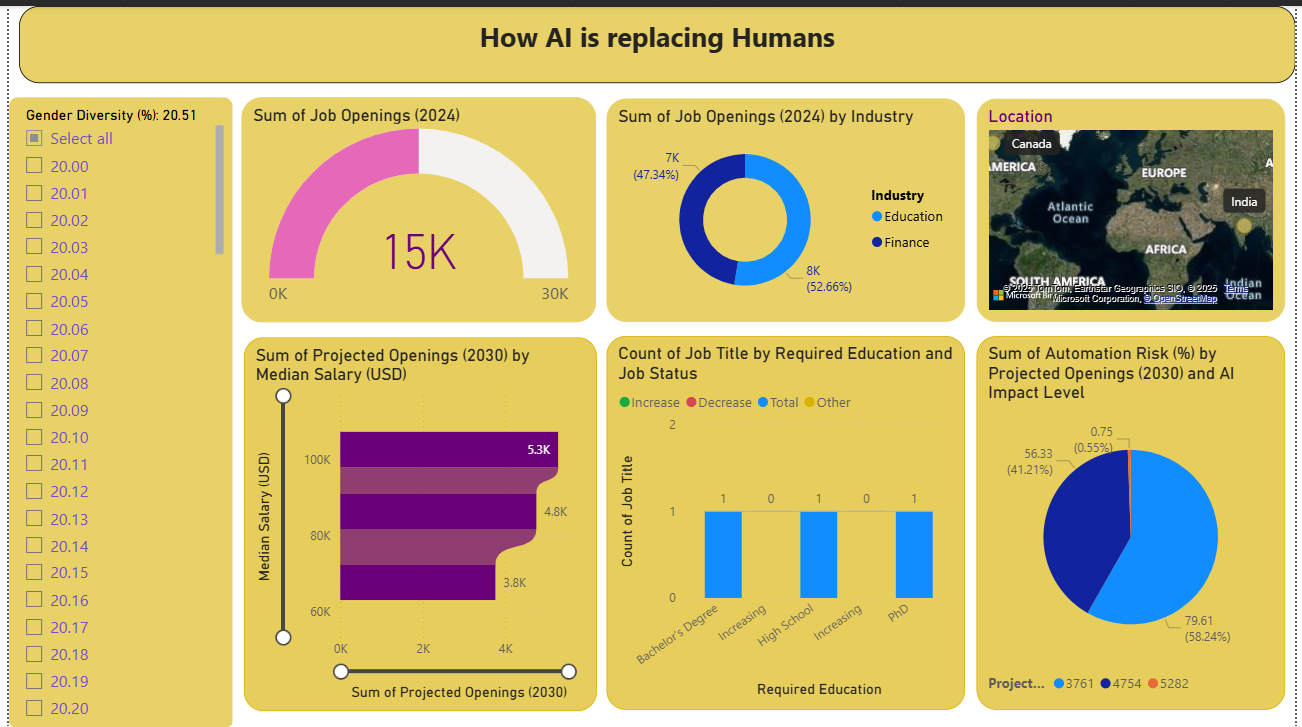

Layout of this report page (visuals, bound fields, positions):
{"tool":"powerbi","page":{"name":"Page 1","canvas":[1280,720],"ordinal":0},"visuals":[{"type":"textbox","box":[9.6,0,1270.7,76.8],"z":0},{"type":"donutChart","fields":{"Category":["ai_job_trends_dataset.Industry"],"Y":["Sum(ai_job_trends_dataset.Job Openings (2024))"]},"box":[594.2,91.9,356.8,222.3],"z":1000},{"type":"slicer","fields":{"Values":["ai_job_trends_dataset.Gender Diversity (%)"]},"box":[0,90.6,222.3,629.8],"z":2000},{"type":"gauge","fields":{"Y":["Sum(ai_job_trends_dataset.Job Openings (2024))"]},"box":[231.9,90.6,352.7,223.7],"z":3000},{"type":"map","fields":{"Category":["ai_job_trends_dataset.Location"]},"box":[963.3,91.9,307.4,222.3],"z":4000},{"type":"barChart","fields":{"Category":["ai_job_trends_dataset.Median Salary (USD)"],"Y":["Sum(ai_job_trends_dataset.Projected Openings (2030))"]},"box":[233.3,329.3,351.3,371.9],"z":5000},{"type":"waterfallChart","fields":{"Category":["ai_job_trends_dataset.Required Education"],"Y":["CountNonNull(ai_job_trends_dataset.Job Title)"],"Breakdown":["ai_job_trends_dataset.Job Status"]},"box":[594,329,357,372],"z":6000},{"type":"pieChart","fields":{"Y":["Sum(ai_job_trends_dataset.Automation Risk (%))"],"Series":["ai_job_trends_dataset.AI Impact Level"],"Category":["ai_job_trends_dataset.Projected Openings (2030)"]},"box":[963,329,307,372],"z":7000}]}

Visuals, with their boxes in screenshot pixels (x1, y1, x2, y2), scaled from the page's 1280x720 canvas onto the 1302x727 screenshot:
textbox: [10,0,1301,78]
donutChart - ai_job_trends_dataset.Industry x Sum(ai_job_trends_dataset.Job Openings (2024)): [604,93,967,317]
slicer - ai_job_trends_dataset.Gender Diversity (%): [0,91,226,726]
gauge - Sum(ai_job_trends_dataset.Job Openings (2024)): [236,91,595,317]
map - ai_job_trends_dataset.Location: [980,93,1293,317]
barChart - ai_job_trends_dataset.Median Salary (USD) x Sum(ai_job_trends_dataset.Projected Openings (2030)): [237,333,595,708]
waterfallChart - ai_job_trends_dataset.Required Education x CountNonNull(ai_job_trends_dataset.Job Title): [604,332,967,708]
pieChart - Sum(ai_job_trends_dataset.Automation Risk (%)) x ai_job_trends_dataset.AI Impact Level: [980,332,1292,708]
